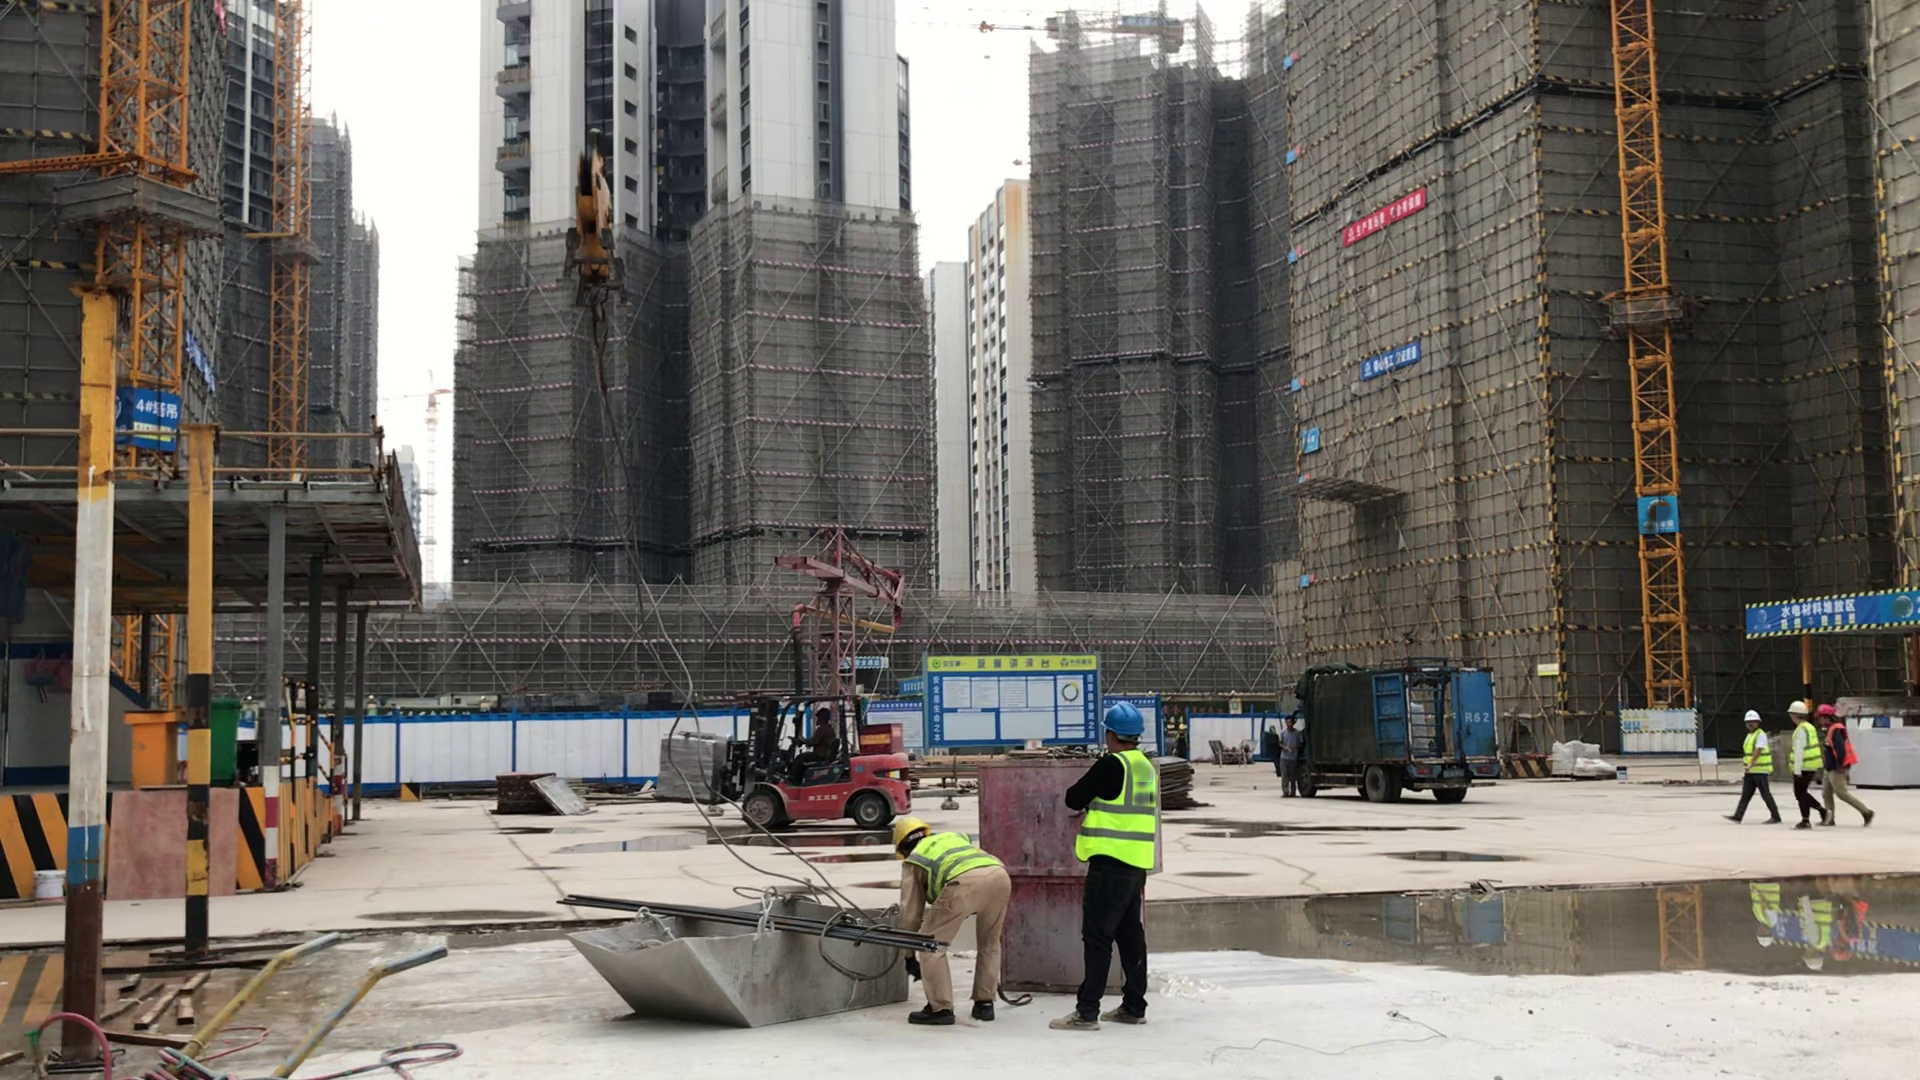board: (537, 770, 592, 819)
brick: (649, 727, 737, 804), (1848, 711, 1920, 791)
fence: (280, 709, 367, 811)
handcart: (18, 927, 508, 1074)
helmet: (882, 806, 930, 864), (1099, 694, 1150, 747), (1813, 699, 1843, 722), (1783, 696, 1808, 720), (809, 703, 834, 722), (1741, 703, 1761, 727)
hook: (531, 134, 641, 361)
hopper: (537, 877, 927, 1039)
person: (1048, 680, 1186, 1049), (878, 793, 1021, 1051), (1724, 699, 1782, 841), (1817, 693, 1874, 838), (1779, 696, 1825, 850), (783, 706, 855, 793), (1273, 710, 1311, 799)
rebar: (553, 880, 957, 964)
slogan: (907, 651, 1103, 761), (1726, 580, 1920, 658), (1758, 899, 1920, 969), (106, 382, 191, 465), (1334, 181, 1434, 250), (1615, 699, 1706, 768), (1349, 334, 1435, 388), (1619, 485, 1687, 550), (169, 327, 222, 407), (826, 649, 906, 681), (1302, 420, 1330, 459)
vest: (1075, 743, 1175, 893), (898, 830, 1006, 891), (1785, 720, 1825, 775), (1820, 722, 1860, 774), (1740, 730, 1776, 780)
